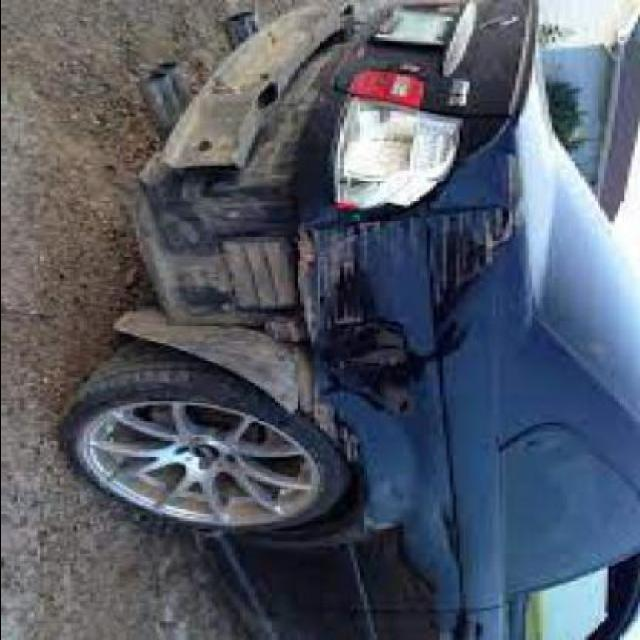quaterpanel-dent: (154, 216, 520, 458)
rear-bumper-dent: (122, 0, 350, 252)
